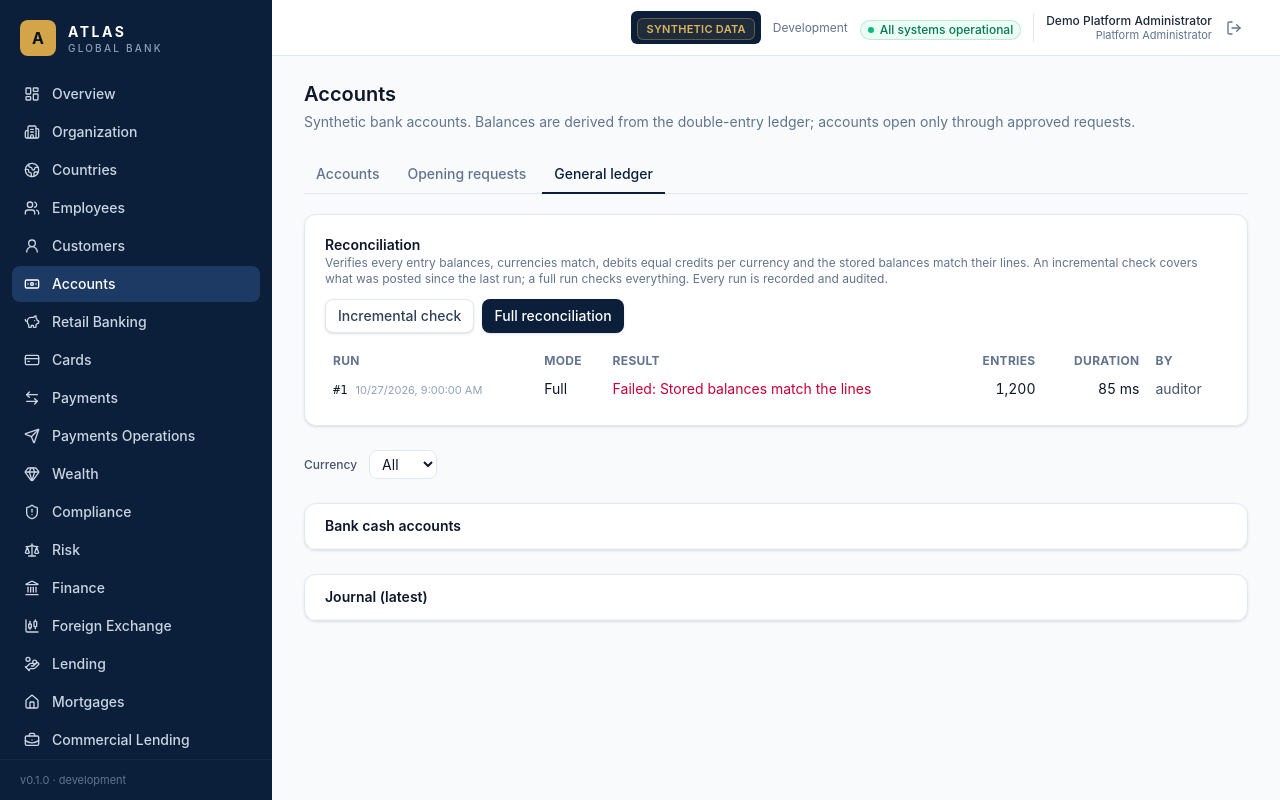
Test: Accounts page › runs an incremental reconciliation and shows the recorded history
The width and height of the screenshot is (1280, 800).
Expected: the text "Failed: Stored balances match the lines" is shown, x1=605 y1=373 x2=956 y2=405
Click the button "Incremental check" at (400,316), box x1=325 y1=299 x2=474 y2=333
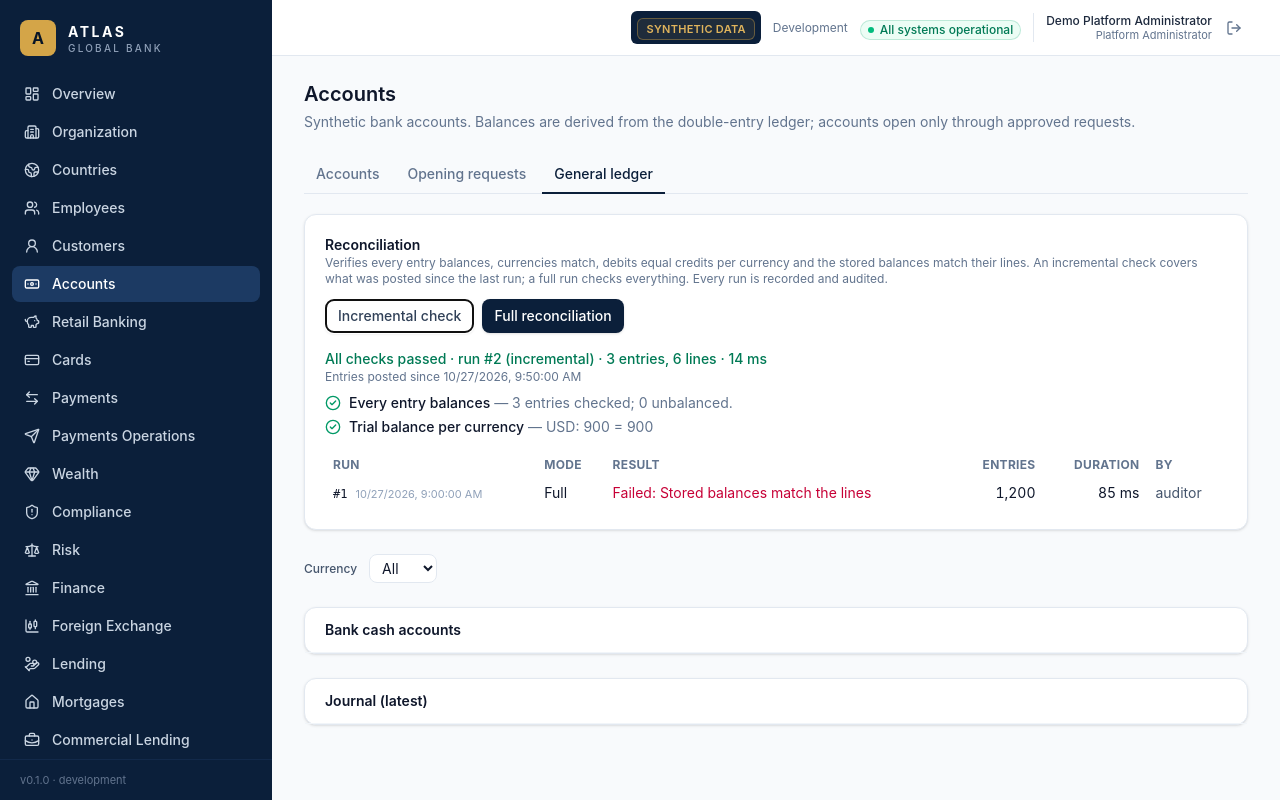
Now the text "All checks passed · run #2" is shown, box x1=325 y1=350 x2=767 y2=367
Now the text "Every entry balances" is shown, box x1=349 y1=394 x2=490 y2=411
Now the text "Entries posted since 10/27/2026, 9:50:00 AM" is shown, box x1=325 y1=369 x2=581 y2=384
